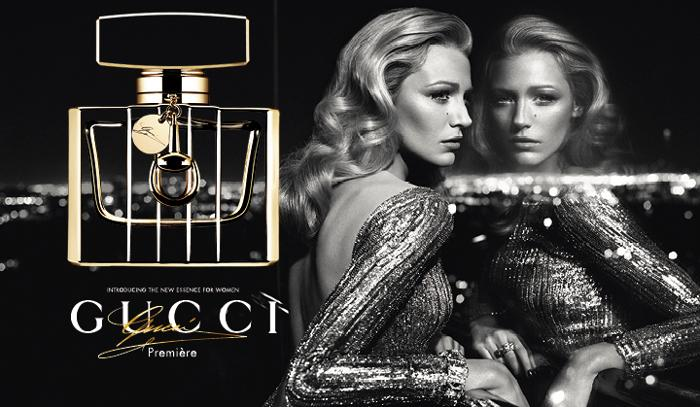GUCCI: (69, 298, 280, 336)
